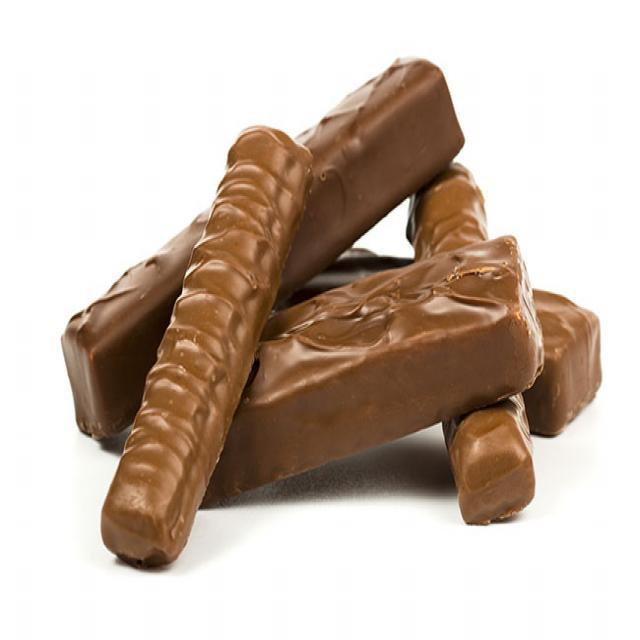Chocolate bar packaged: (60, 56, 466, 438), (117, 232, 547, 510), (100, 125, 316, 579), (406, 156, 540, 526)
